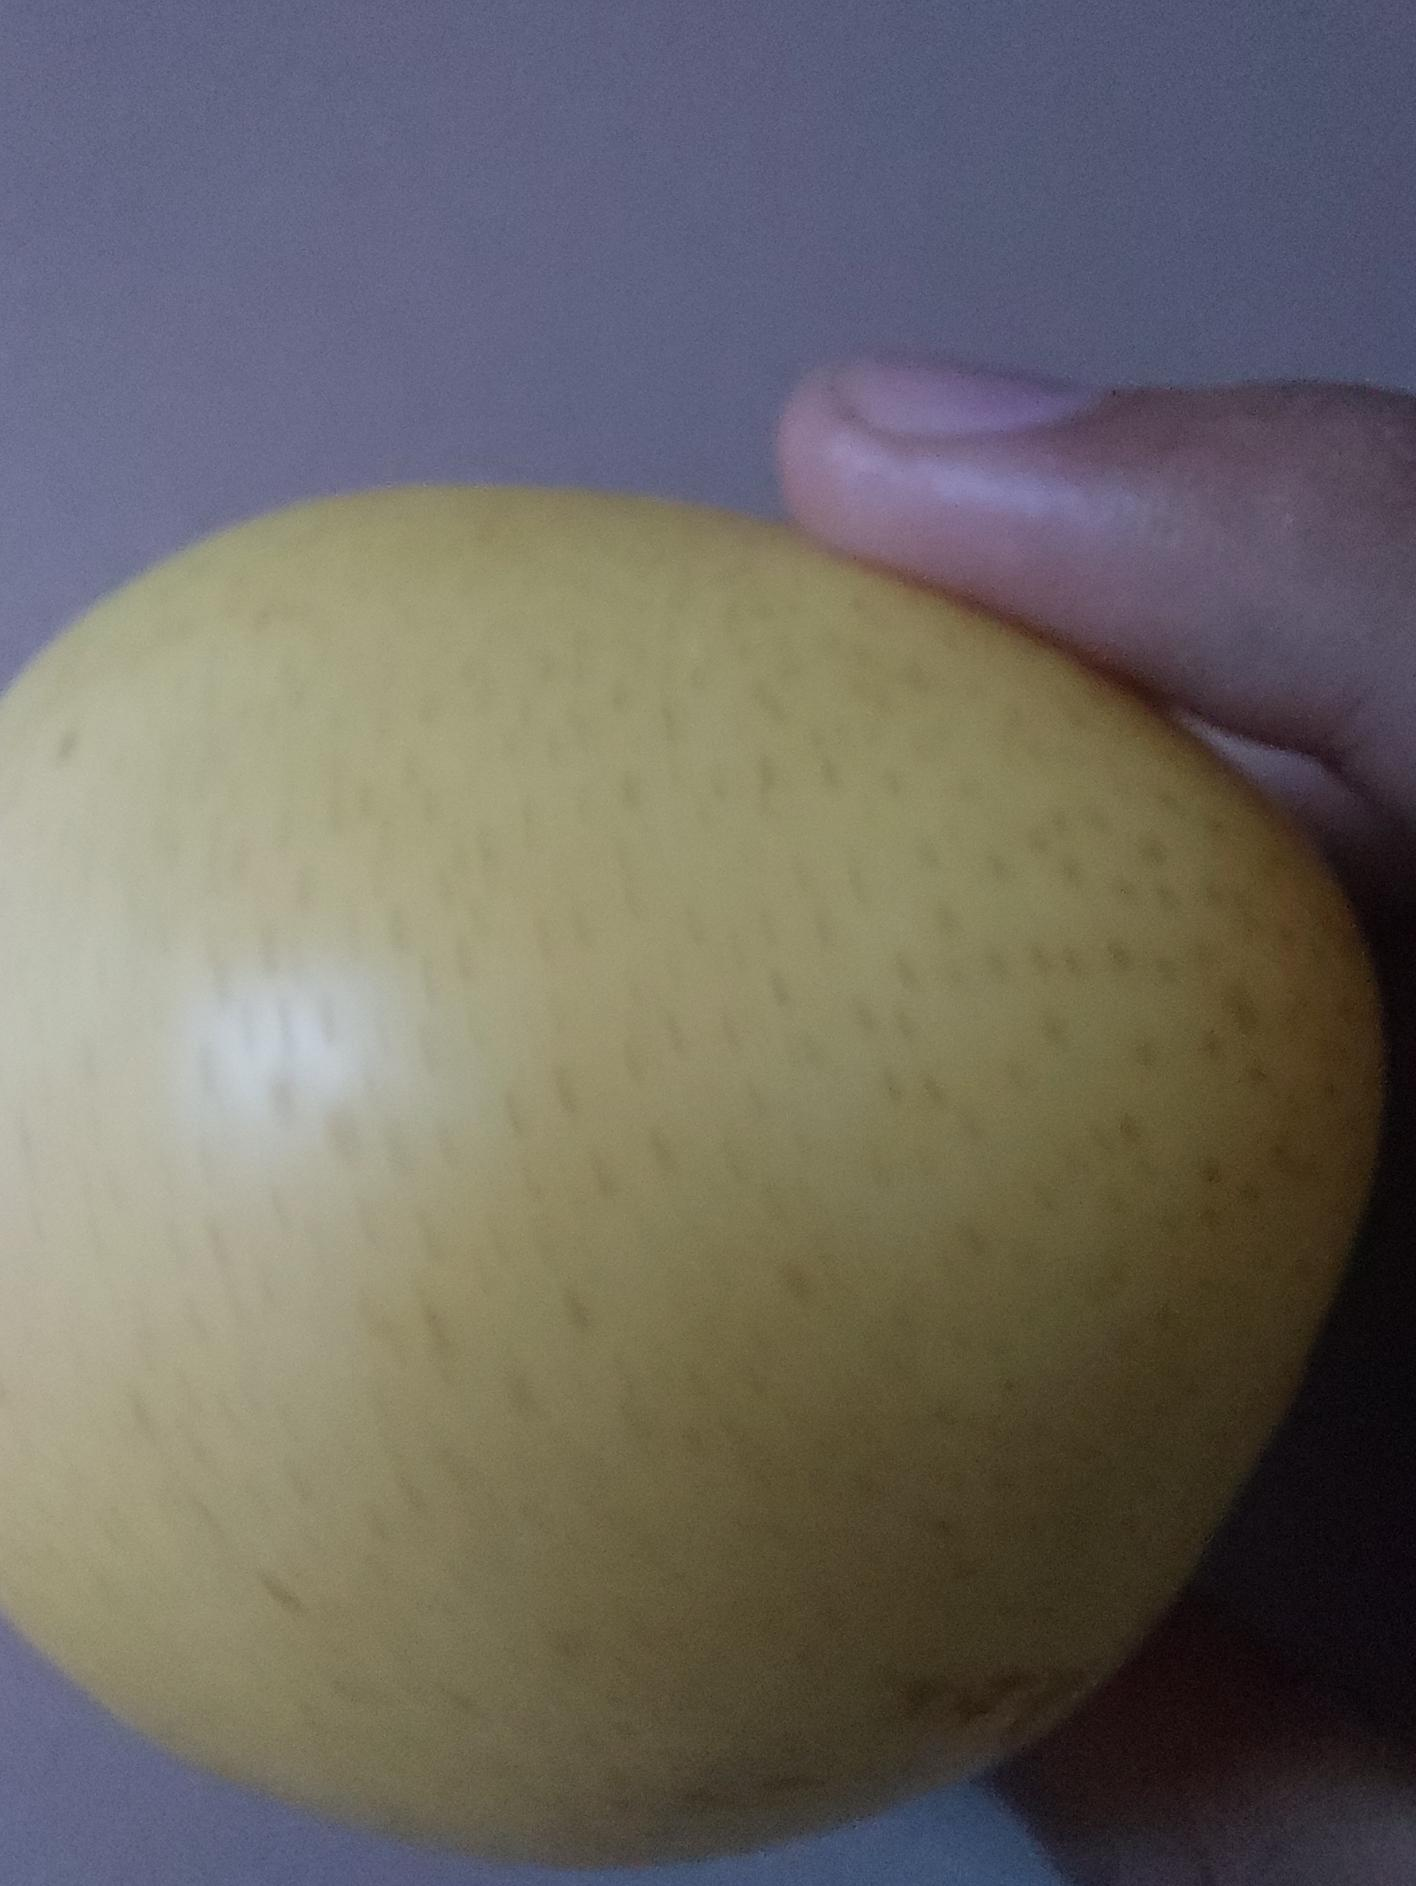Good Pear: (0, 512, 1377, 1856)
